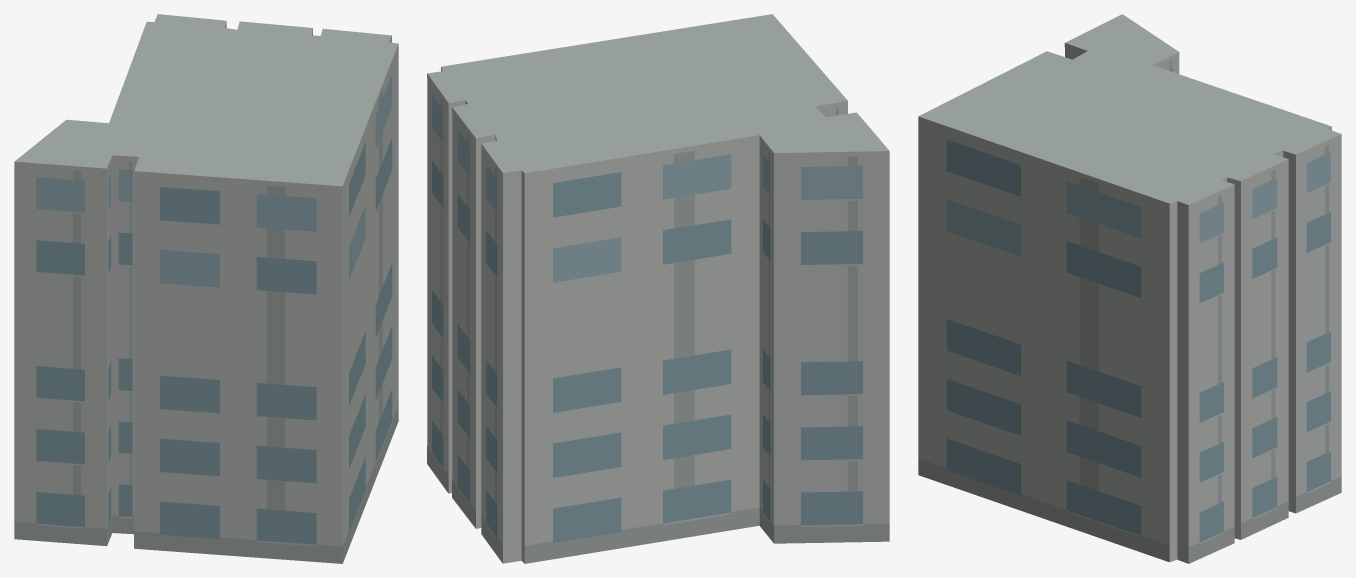
Rendered from survey-upis-32463702.glb.
The picture shows the model from 3 angles, left to right: view 1: azimuth 30°, elevation 25°; view 2: azimuth 150°, elevation 25°; view 3: azimuth 270°, elevation 25°; orthographic projection. The views are drawn at different scales.
Parts seen in each view (by area): view 1: survey-upis-32463702.tmp; view 2: survey-upis-32463702.tmp; view 3: survey-upis-32463702.tmp.
Part boxes in pixels (bbox=[...]): survey-upis-32463702.tmp: bbox=[14, 14, 398, 563]; survey-upis-32463702.tmp: bbox=[427, 14, 889, 563]; survey-upis-32463702.tmp: bbox=[918, 14, 1341, 563].
Size of the model in its own units: 21.95 by 19.2 by 20.54.
